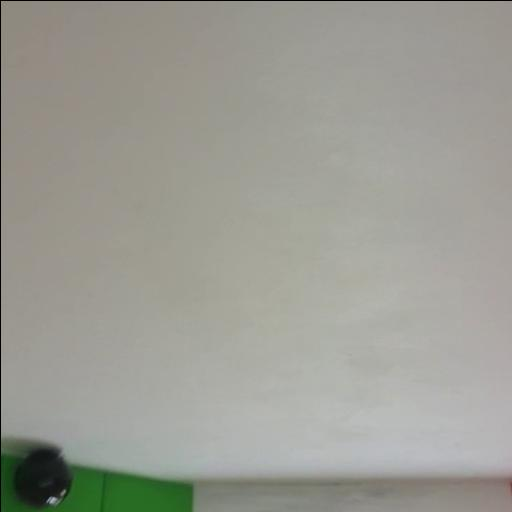dead: (13, 448, 73, 510)
